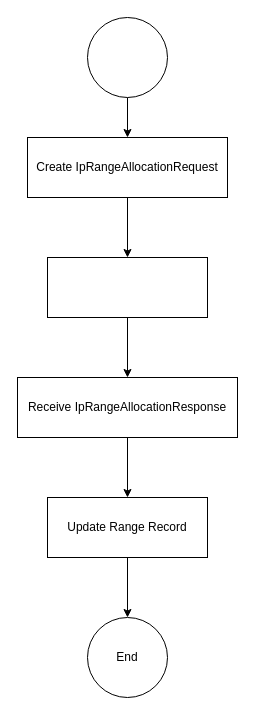
This 255x715 diagram has some shape labels left out. The centre of each missing label's shape, as x and y in pixels:
"Send Request to PHP IPAM" belongs at [127,287].
"Start" belongs at [127,57].
